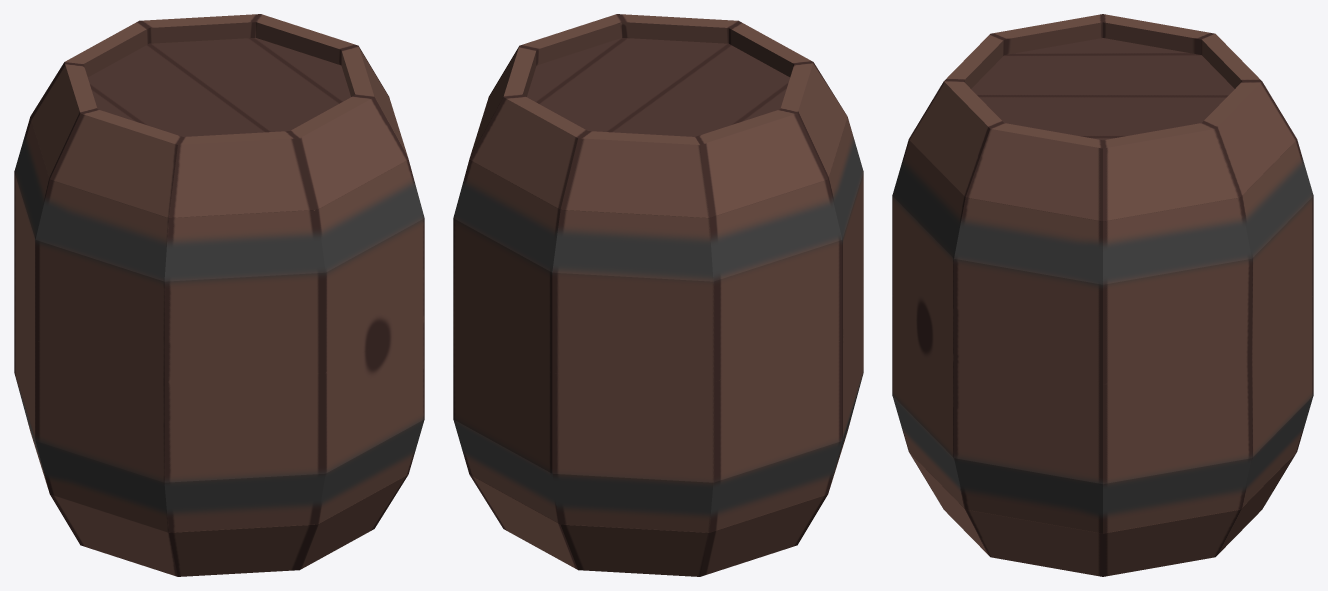
The model's file is Barrel.fbx.
3 views of the same model, side by side, from view 1: azimuth 30°, elevation 25°; view 2: azimuth 150°, elevation 25°; view 3: azimuth 270°, elevation 25° (orthographic).
Parts seen in each view (by area): view 1: Circle; view 2: Circle; view 3: Circle.
Part boxes in pixels (left/top/right/bottom): Circle: left=14, top=14, right=424, bottom=576; Circle: left=453, top=14, right=863, bottom=576; Circle: left=892, top=14, right=1313, bottom=576.
Size of the model in its own units: 162 by 182 by 162.
